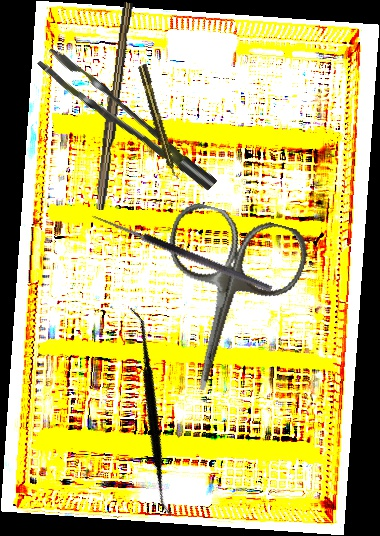Handpiece: (136, 62, 181, 182)
Hook Surgical: (86, 212, 274, 302)
Iris Scissors: (134, 198, 313, 407)
Scalpel Handle: (91, 1, 134, 211)
Spatula Surgical: (50, 307, 251, 517)
Tissue Forceps: (36, 31, 218, 213)
